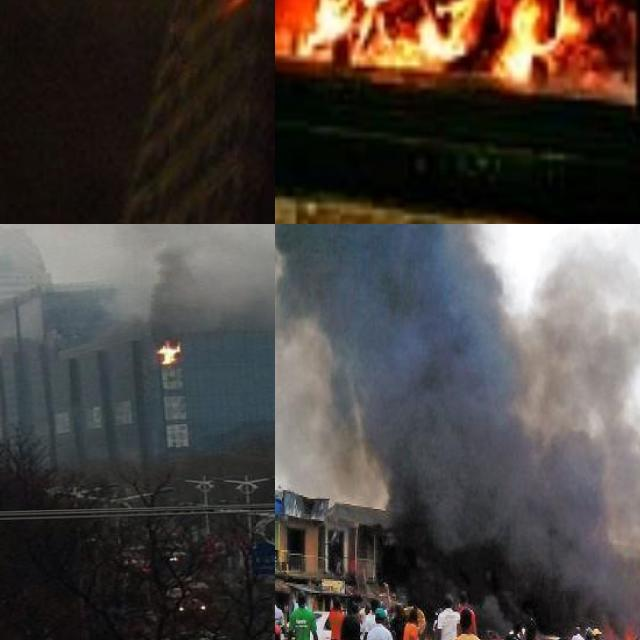fire: (285, 0, 628, 85), (154, 340, 180, 364), (622, 625, 636, 640)
smoke: (275, 224, 640, 640), (0, 224, 275, 331)
